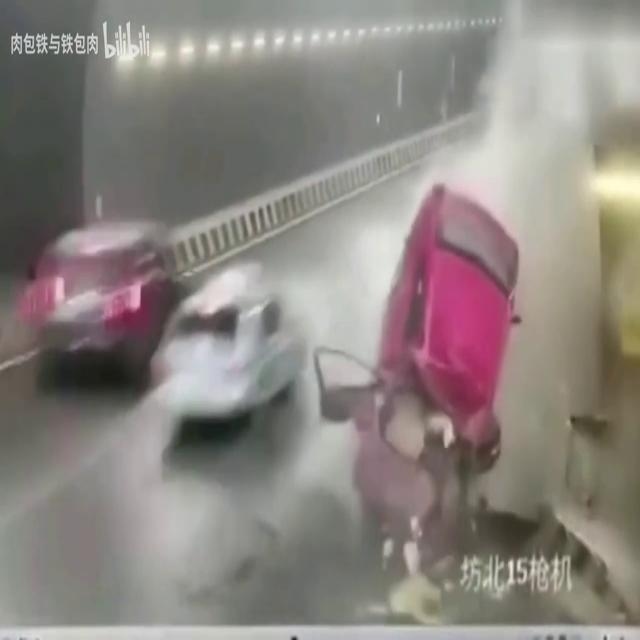accident: (321, 182, 515, 510)
